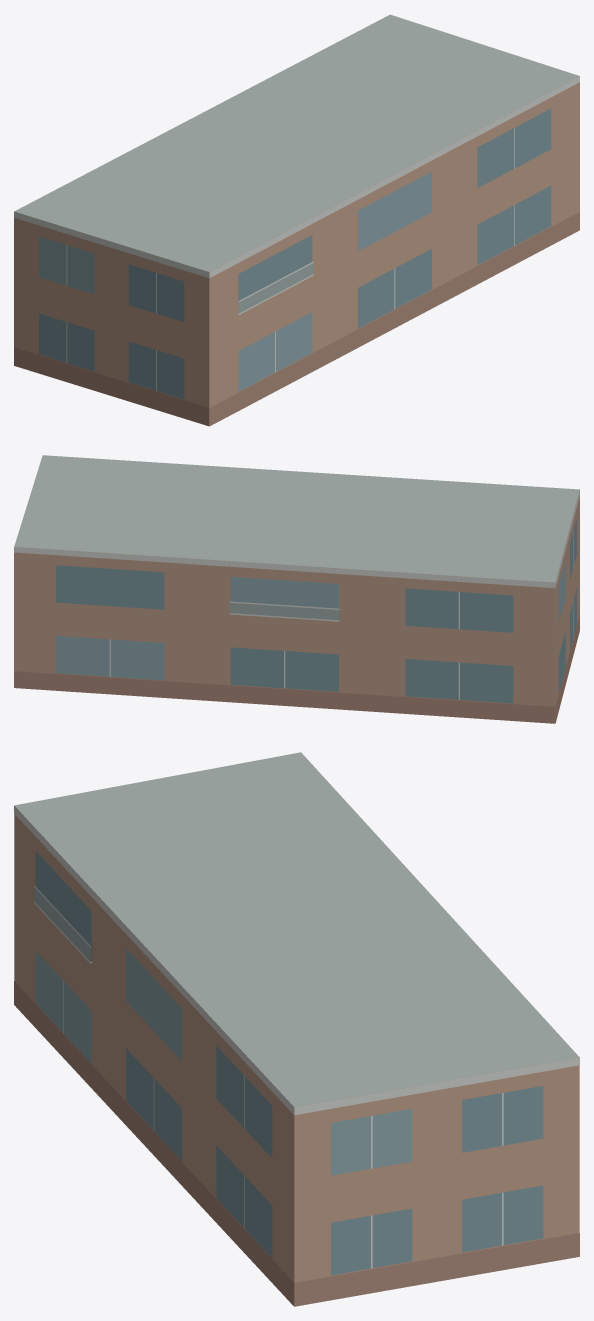
File: survey-upis-32641344.glb
The picture shows the model from 3 angles, top to bottom: view 1: azimuth 30°, elevation 25°; view 2: azimuth 150°, elevation 25°; view 3: azimuth 270°, elevation 25°; orthographic projection. The views are drawn at different scales.
Parts seen in each view (by area): view 1: survey-upis-32641344.tmp; view 2: survey-upis-32641344.tmp; view 3: survey-upis-32641344.tmp.
Part boxes in pixels (left/top/right/bottom): survey-upis-32641344.tmp: left=14, top=14, right=579, bottom=426; survey-upis-32641344.tmp: left=14, top=455, right=579, bottom=723; survey-upis-32641344.tmp: left=14, top=752, right=579, bottom=1306.
Bounding box in the file's own units: 23.31 × 6.1 × 15.7.
